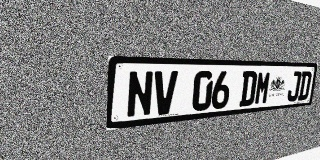0: (191, 71, 214, 112)
6: (211, 71, 232, 110)
D: (239, 71, 258, 107), (297, 71, 312, 101)
J: (286, 71, 302, 102)
M: (254, 71, 272, 105)
N: (126, 71, 154, 118)
V: (152, 71, 178, 116)
